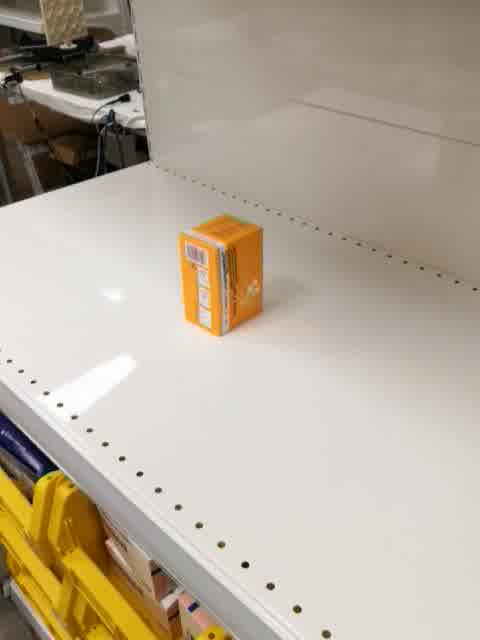jasminetea: (178, 215, 264, 337)
